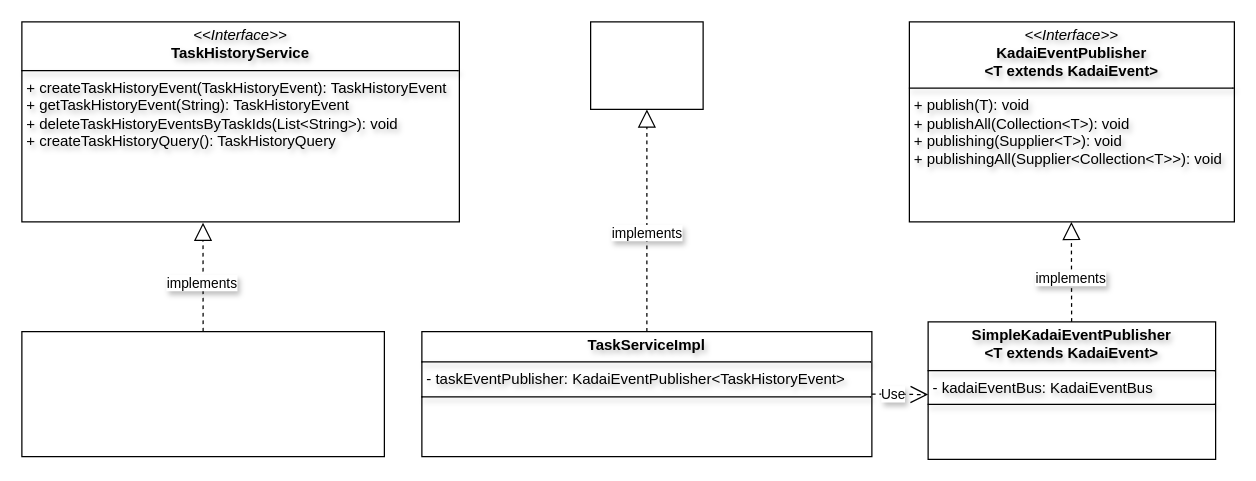
This 1256x481 diagram has some shape labels left out. Each missing label, with the centre of its shape:
"<<Interface>> TaskService + ..." goes at (646,65).
"TaskHistoryServiceImpl - taskHistoryEventMapper: TaskHistoryEventMapper" goes at (202,393).
